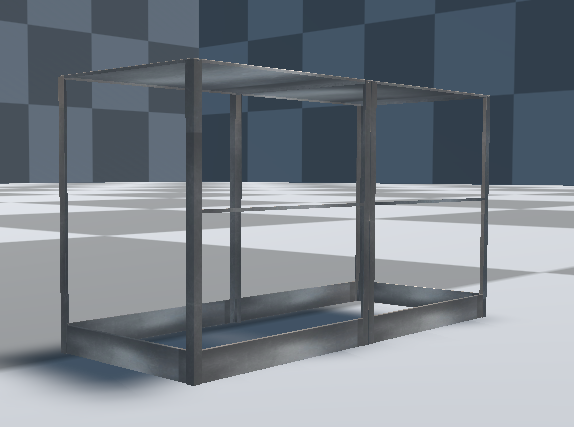Rack: (57, 55, 492, 388)
